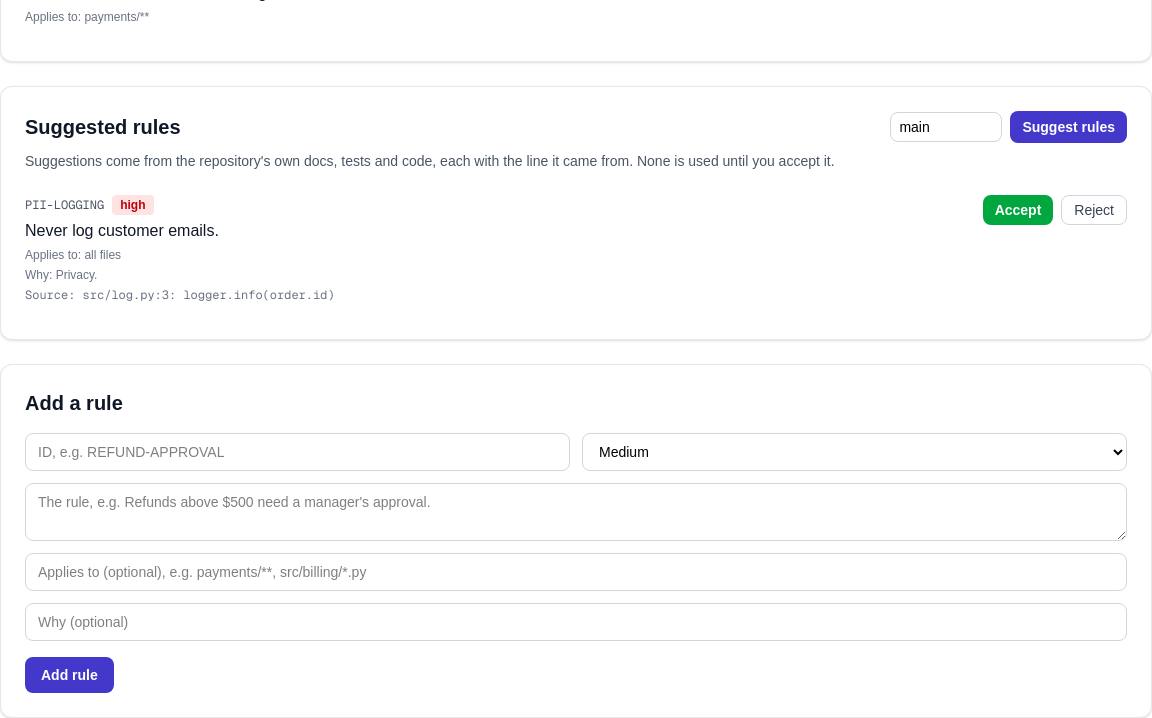
RulesManager › shows the engine's message when a request is refused
(page scrolled)
Type "ORDER-CANCEL" into the field with placeholder "ID, e.g. REFUND-APPROVAL" at (298, 452), box [25,433,570,471]
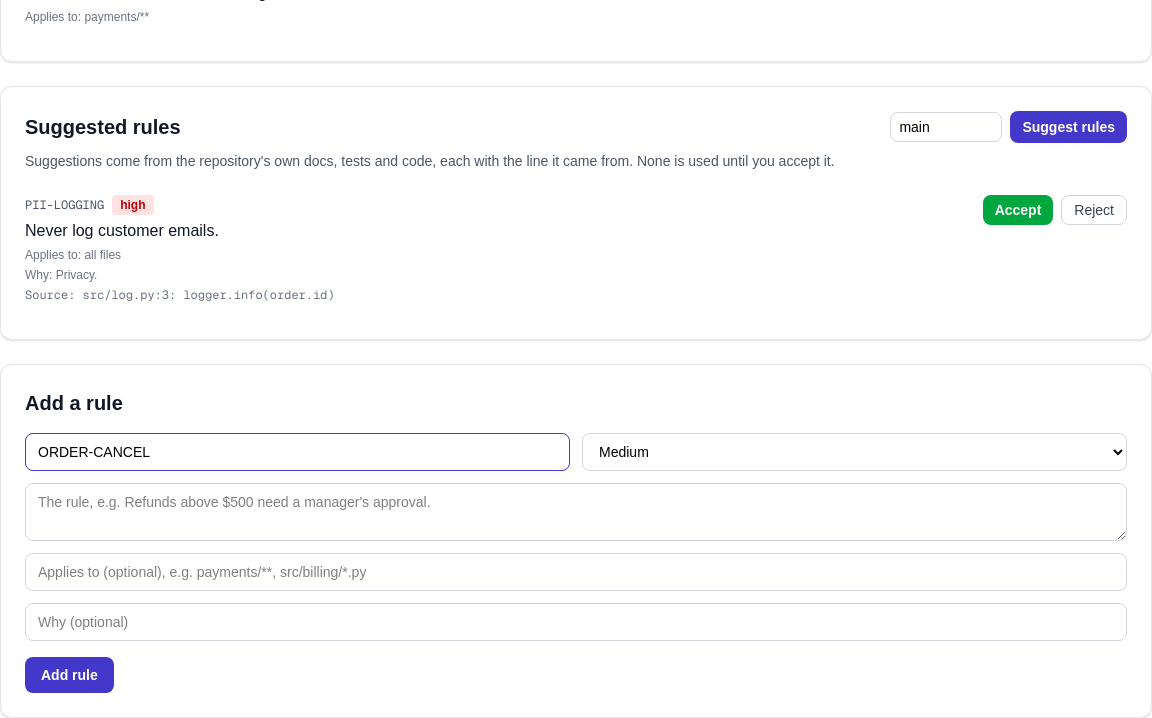
Type "Duplicate." into the text box with placeholder "The rule, e.g." at (576, 512), box [25,483,1127,541]
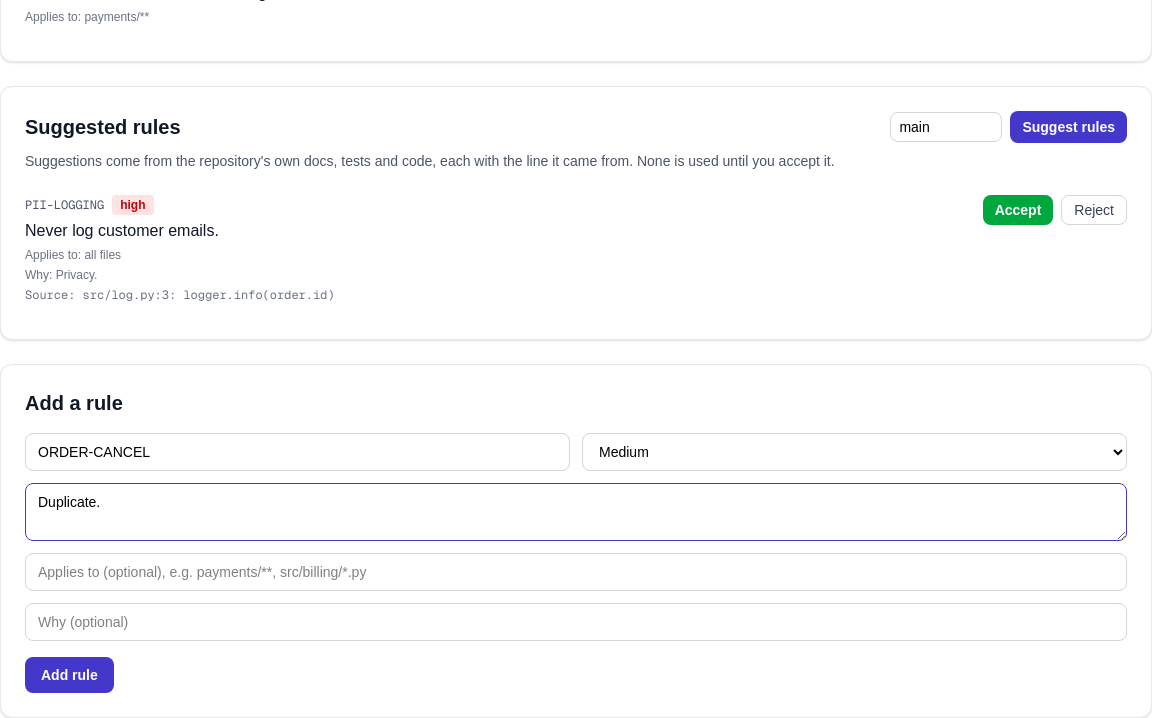
Click the button "Add rule" at (69, 675), box [25,657,114,693]
(page scrolled)
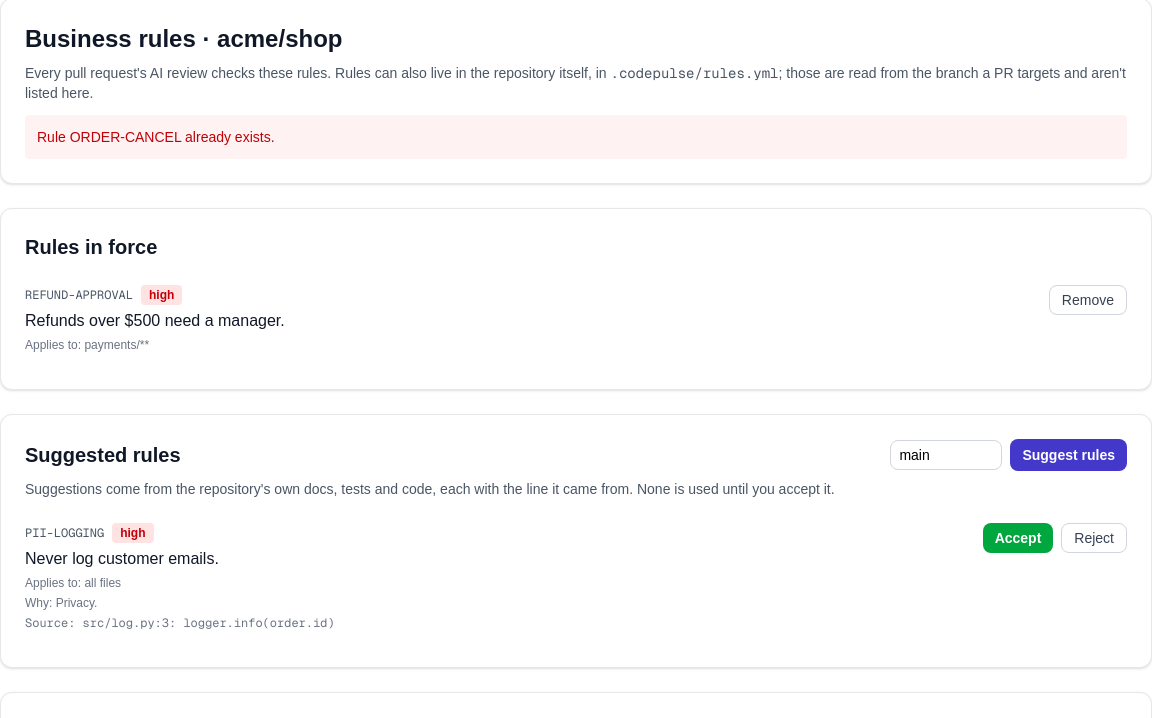
Expected: the text "Rule ORDER-CANCEL already exists." is shown, [25,115,1127,159]
